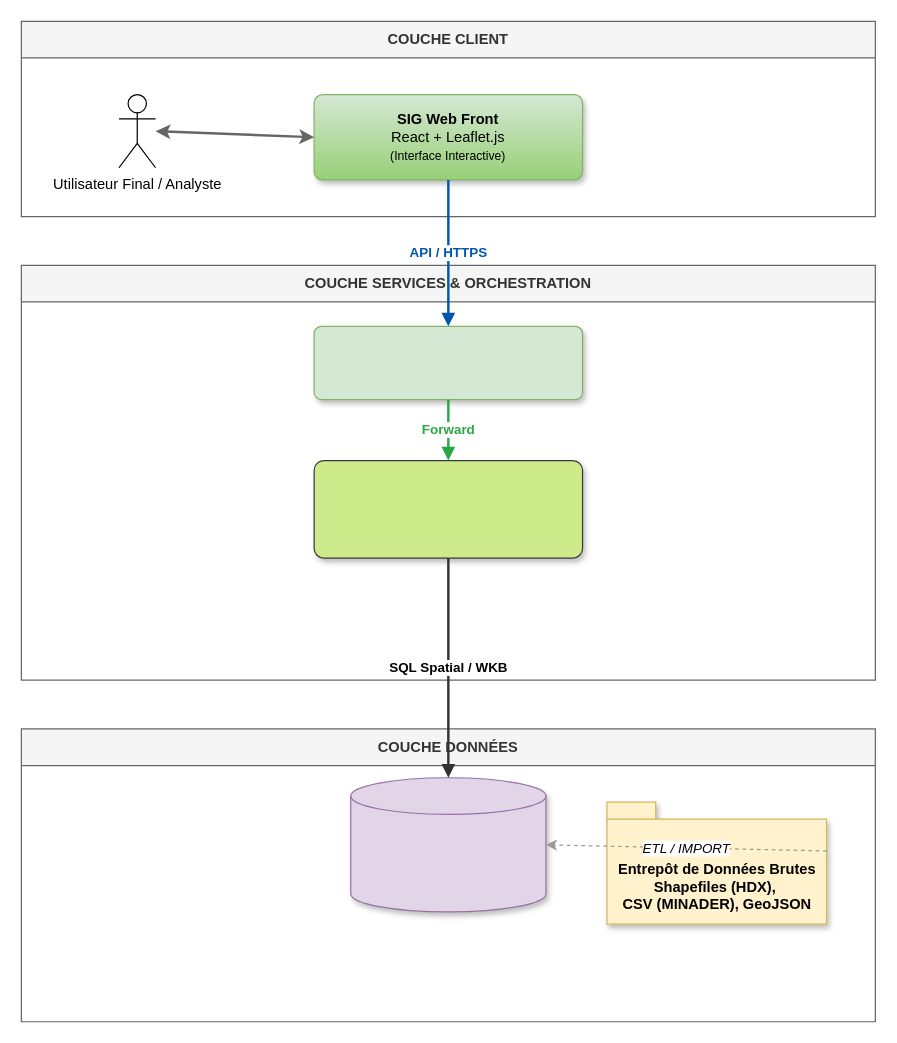
This 897x1043 diagram has some shape labels left out. Here are the shapes that lost their labels. From the top down, the centre of each, then its label:
(x=449, y=364): Proxy / Gateway Nginx (Terminaison SSL / Routeur)
(x=449, y=510): Moteur de Diffusion SIG GeoServer (v2.28+) WMS / WFS / WMTS
(x=449, y=846): Stockage Spatial Pro PostGIS / PostgreSQL (Index GIST / Queries SQL)
